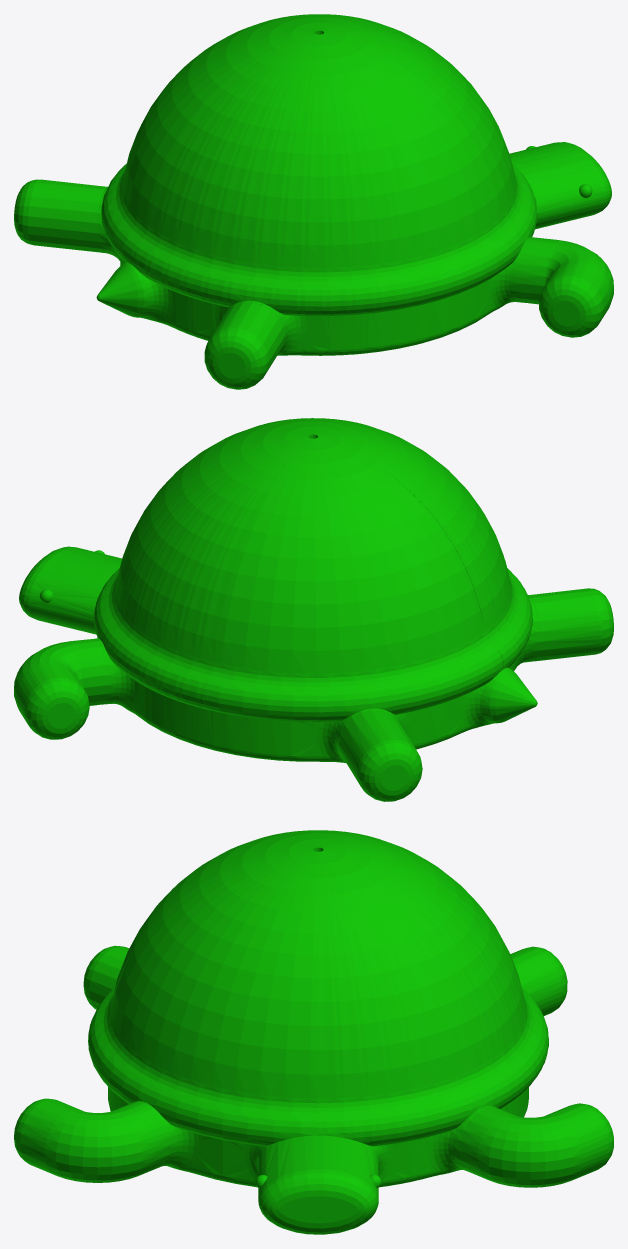
The model's file is turtle.fbx.
3 renders of one model, top to bottom at view 1: azimuth 30°, elevation 25°; view 2: azimuth 150°, elevation 25°; view 3: azimuth 270°, elevation 25°, orthographic. The views are drawn at different scales.
Parts seen in each view (by area): view 1: ENG1102 TAB LO2 BathToyTurtle; view 2: ENG1102 TAB LO2 BathToyTurtle; view 3: ENG1102 TAB LO2 BathToyTurtle.
Boxes of the visible parts, x1,y1,x2,y2 form: ENG1102 TAB LO2 BathToyTurtle: [14, 14, 613, 389]; ENG1102 TAB LO2 BathToyTurtle: [14, 418, 613, 801]; ENG1102 TAB LO2 BathToyTurtle: [14, 830, 613, 1234].
Size of the model in its own units: 6000 by 3043 by 5984.
Materials: 1 (1 with a texture image).
